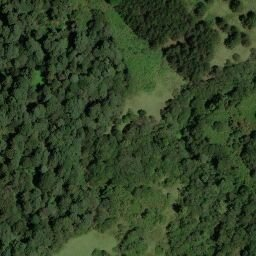forest: (1, 1, 112, 230), (114, 112, 204, 186), (177, 185, 256, 256), (165, 97, 207, 183), (165, 19, 216, 71), (144, 1, 191, 40), (133, 1, 183, 34), (1, 230, 58, 256), (223, 60, 256, 95), (112, 51, 130, 113), (183, 84, 221, 113), (239, 129, 256, 169), (120, 1, 148, 21)
